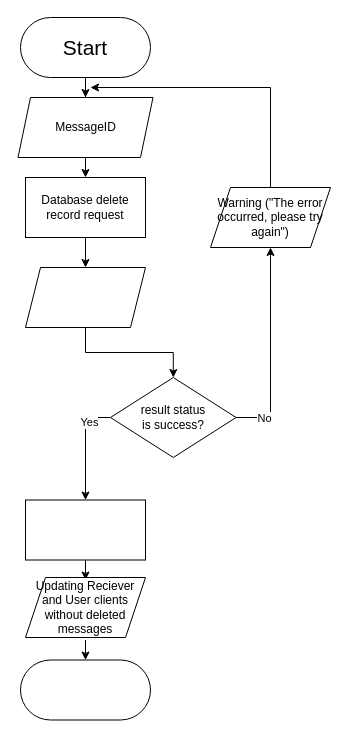
Image size: 348x738. Some labels were removed from this diagram. Here are the shapes that lost their labels. From the top down, the centre of each, then its label:
At (x=85, y=297): "Request result status".
At (x=85, y=529): "Send code 1".
At (x=85, y=689): "End".
